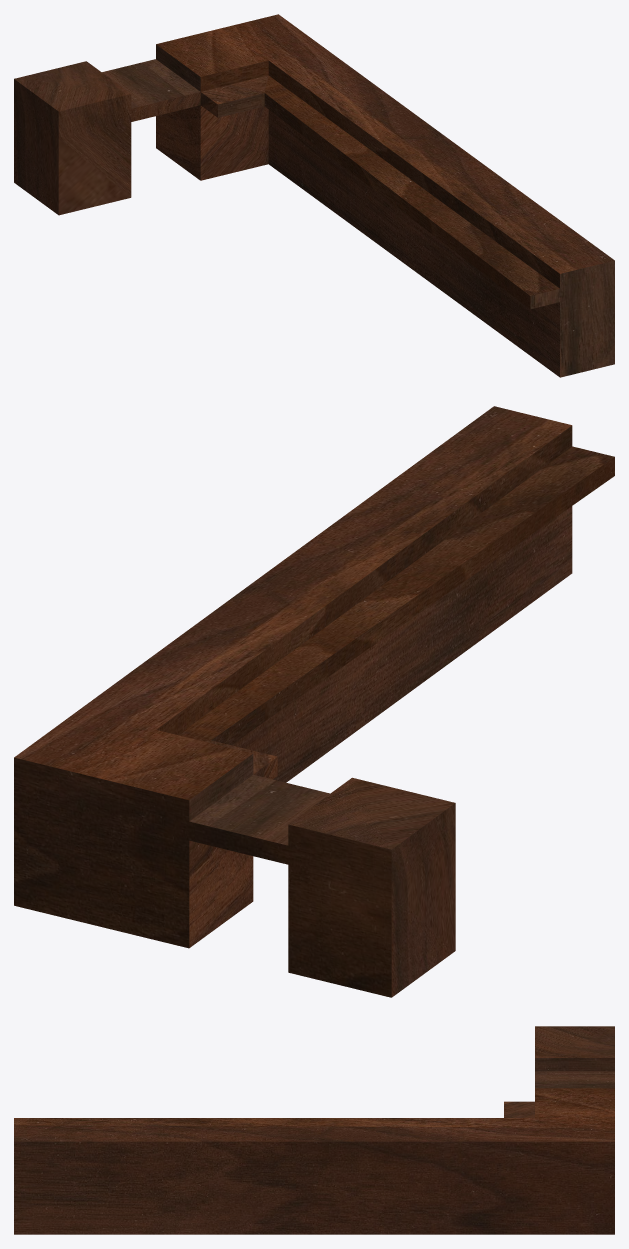
Rendered from Bar.fbx.
3 views of the same model, one above another, from view 1: azimuth 30°, elevation 25°; view 2: azimuth 150°, elevation 25°; view 3: azimuth 270°, elevation 25° (orthographic). The views are drawn at different scales.
Visible parts, largest first — view 1: Bar; view 2: Bar; view 3: Bar.
Part boxes in pixels (x1=…): Bar: x1=14, y1=14, x2=614, y2=377; Bar: x1=14, y1=406, x2=614, y2=997; Bar: x1=14, y1=1026, x2=614, y2=1234.
Bounding box in the file's own units: 365 × 137 × 804.
